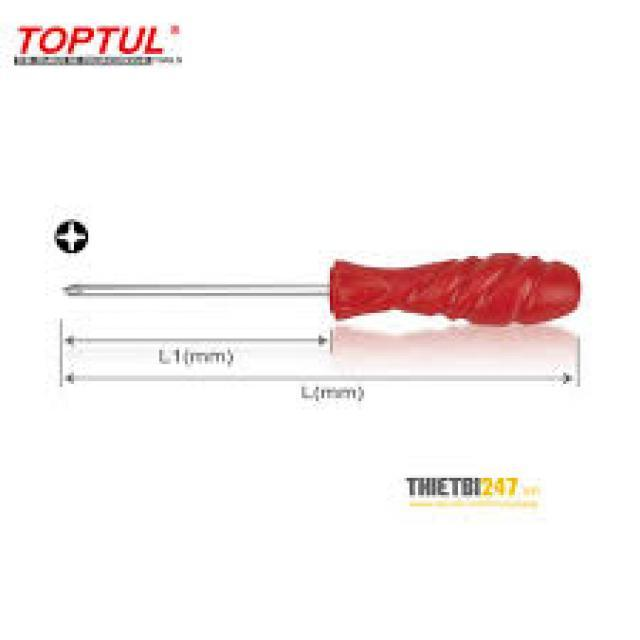screwdriver: (57, 254, 598, 332)
